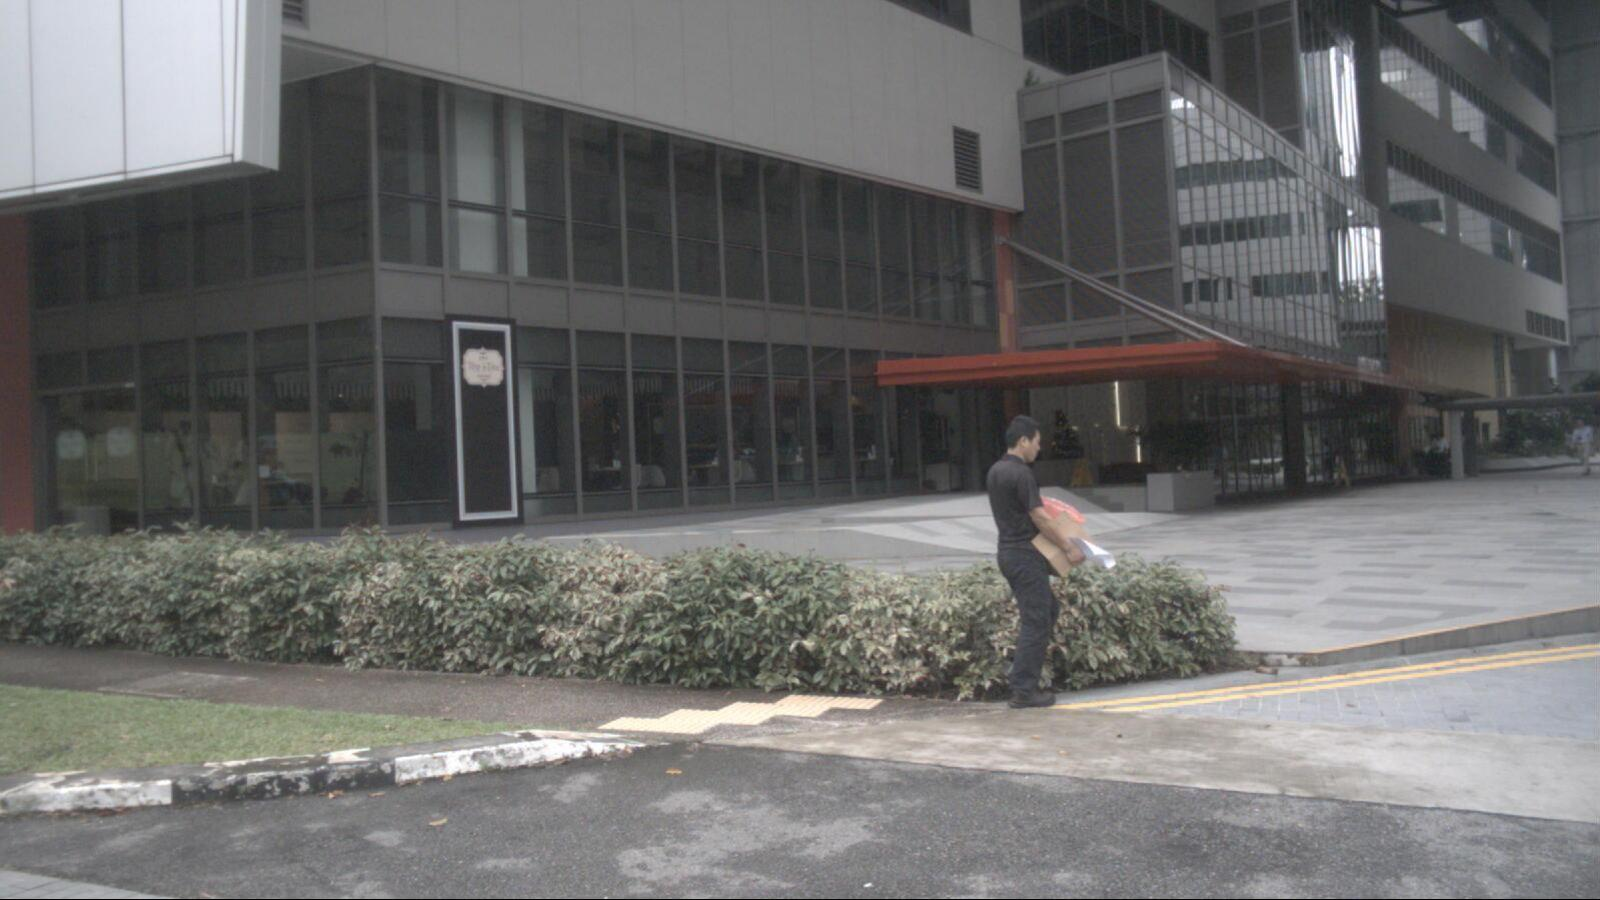human.pedestrian.adult-pedestrian.moving: (985, 415, 1087, 709), (1569, 418, 1594, 477), (1330, 450, 1350, 490), (1318, 440, 1332, 484)
human.pedestrian.adult-pedestrian.standing: (1428, 433, 1450, 480)
